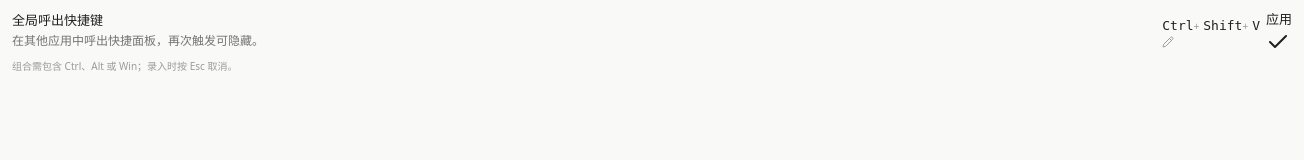
Test: HotkeyRecorder › shows backend conflict errors inline
This screenshot has width=1304, height=160.
Click the button titled "点击后输入新的快捷键组合" at (1211, 32), box top-left (1162, 16), bottom-right (1260, 48)
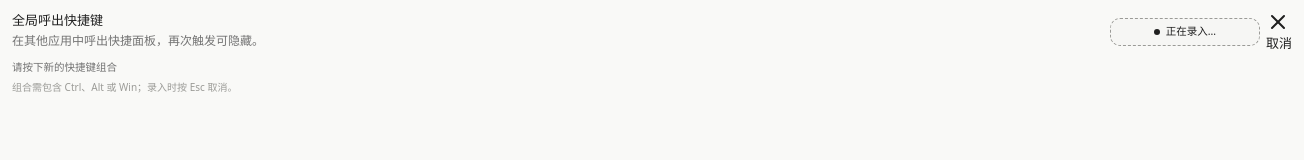
Press KeyJ
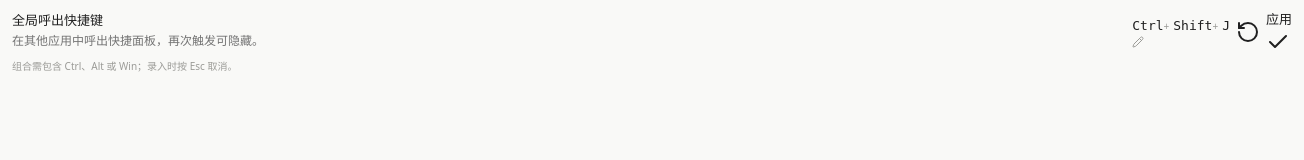
Click the button "应用" at (1279, 32), box top-left (1266, 10), bottom-right (1292, 54)
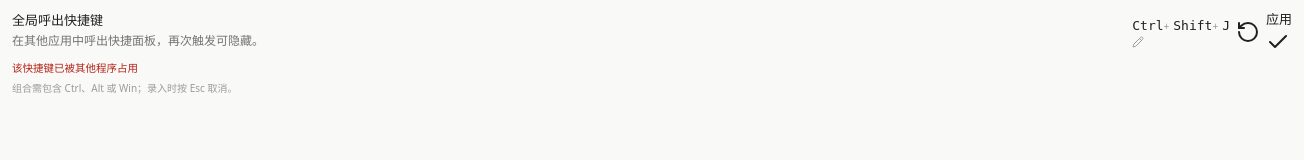
Check: the text "该快捷键已被其他程序占用" is shown, box top-left (12, 60), bottom-right (138, 74)
